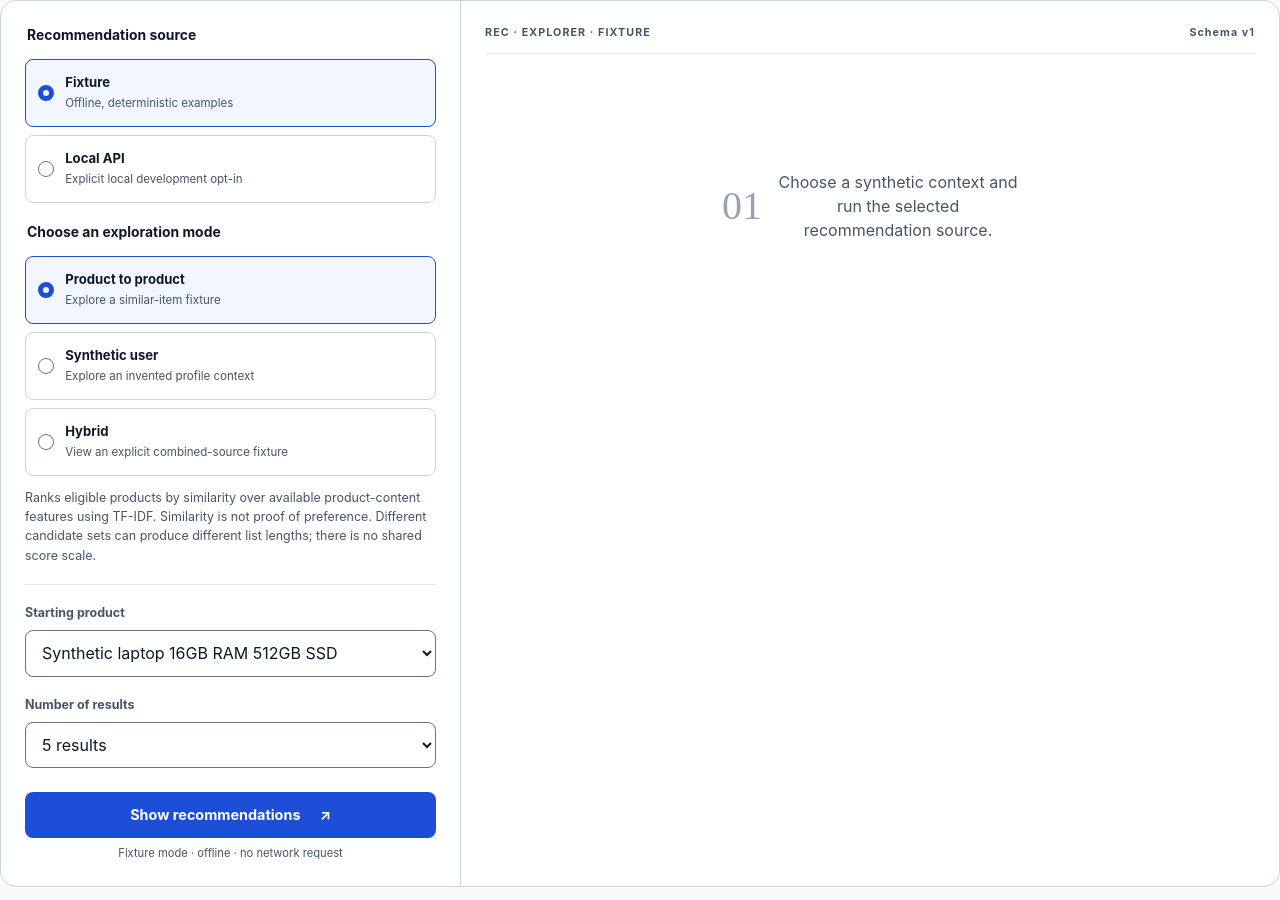
recommendation explorer › explains the synthetic_user mode without claiming preference
Click the radio button labelled "Synthetic user Explore an invented profile context" at x=112, y=355, box [25,332,436,400]
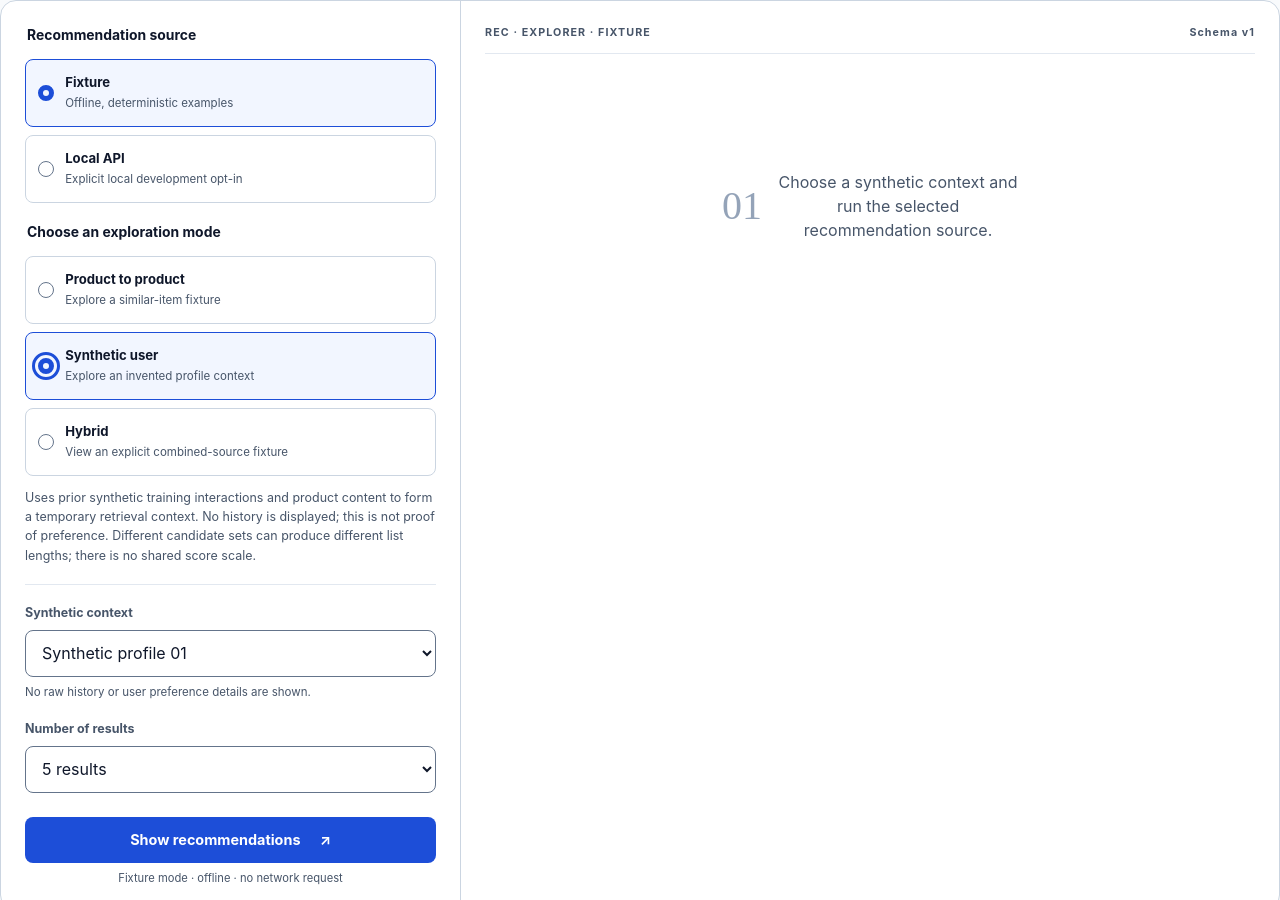
Expected: the radio button labelled "Fixture Offline, deterministic examples" is checked, [25,59,436,127]
Expected: the text "prior synthetic training interactions and product content" is shown, [25,490,435,543]
